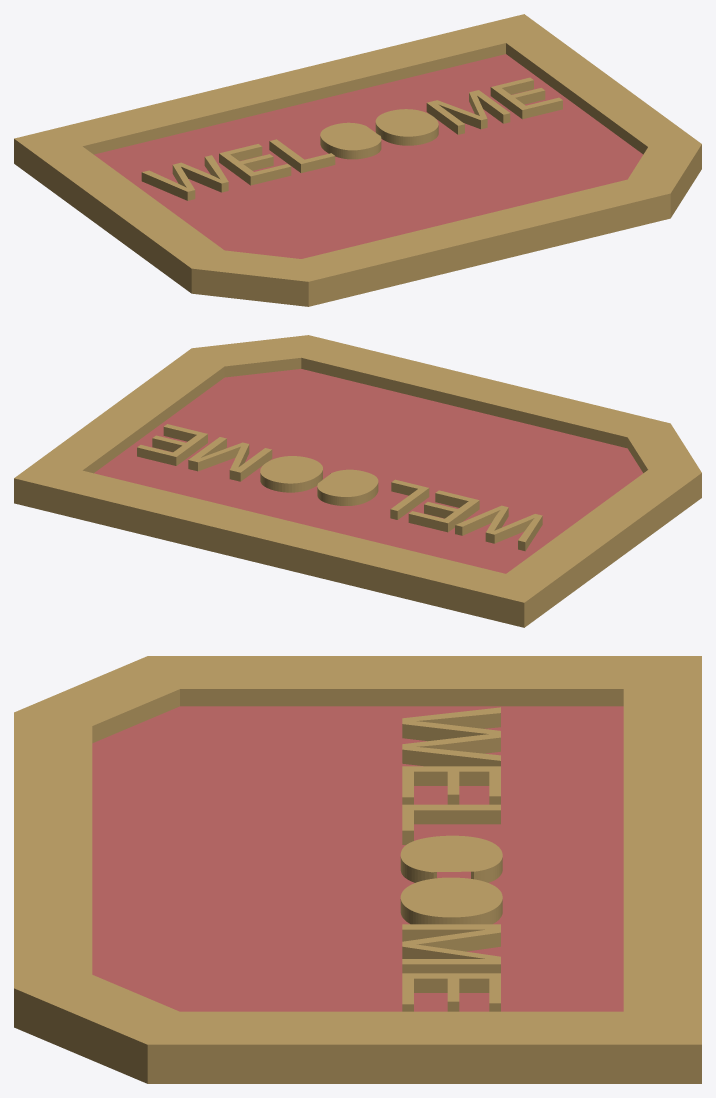
File: DoorCarpet.FBX
The picture shows the model from 3 angles, top to bottom: view 1: azimuth 30°, elevation 25°; view 2: azimuth 150°, elevation 25°; view 3: azimuth 270°, elevation 25°; orthographic projection. The views are drawn at different scales.
Visible parts, largest first — view 1: DoorCapet; view 2: DoorCapet; view 3: DoorCapet.
Part boxes in pixels (bbox=[...]): DoorCapet: bbox=[14, 14, 701, 306]; DoorCapet: bbox=[14, 335, 701, 627]; DoorCapet: bbox=[14, 656, 701, 1083].
Bounding box in the file's own units: 12.33 × 0.5789 × 9.22.
